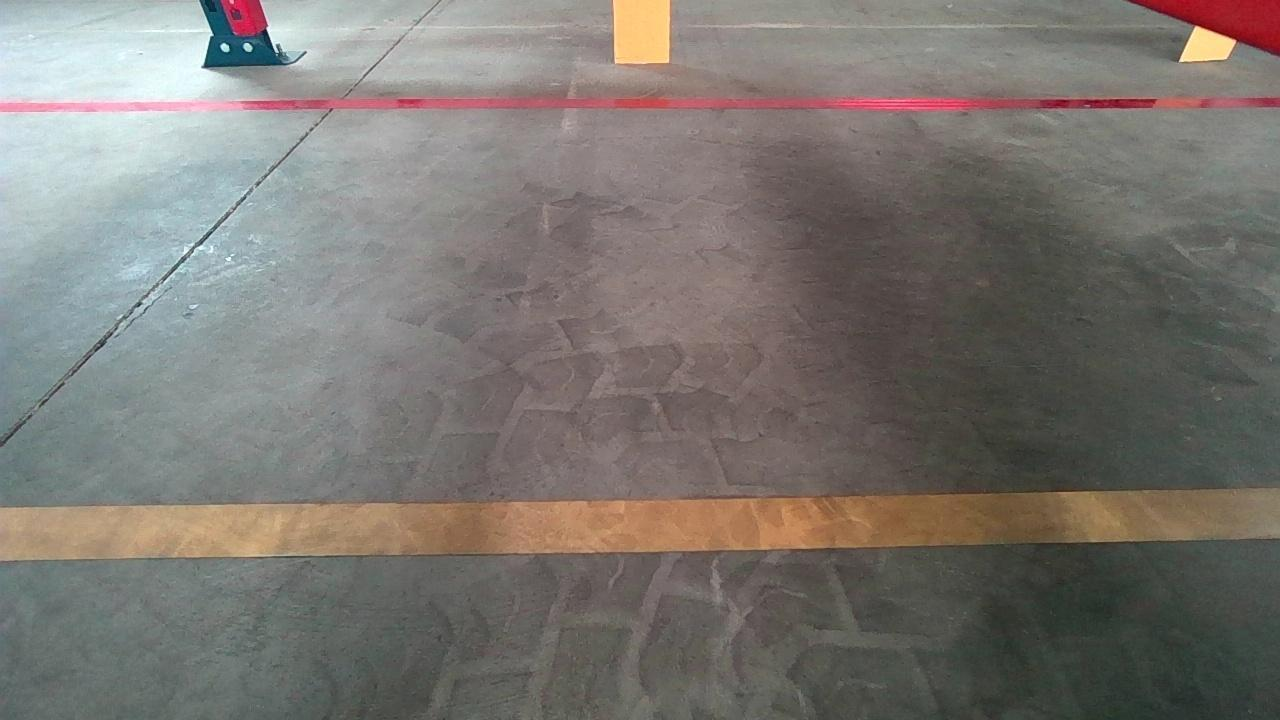red_line: (0, 96, 1280, 114)
yellow_line: (2, 486, 1279, 561)
